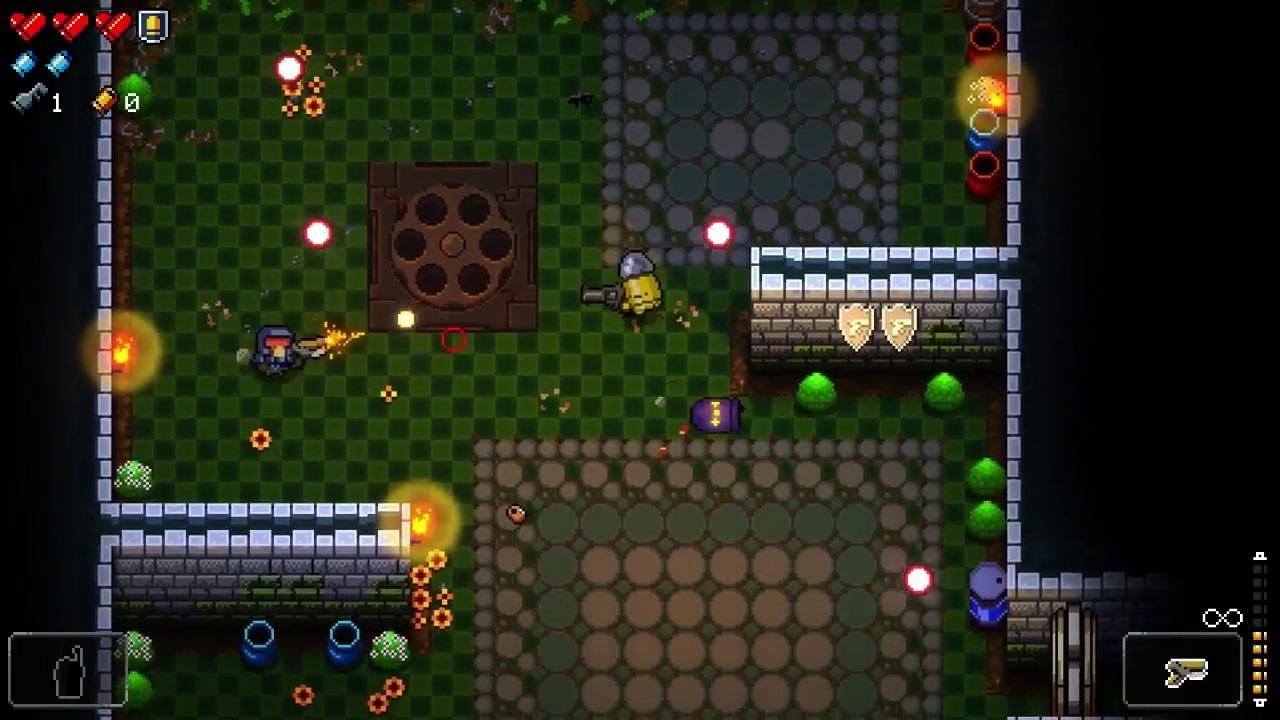bullet: (704, 218, 733, 251), (903, 564, 933, 595), (303, 218, 332, 249), (275, 55, 303, 83)
bullet_kin: (618, 250, 665, 320)
dead_rubber_kin: (690, 395, 746, 435)
locked_door: (1052, 602, 1096, 718)
player: (255, 324, 296, 379)
teleporter: (368, 160, 539, 332)
